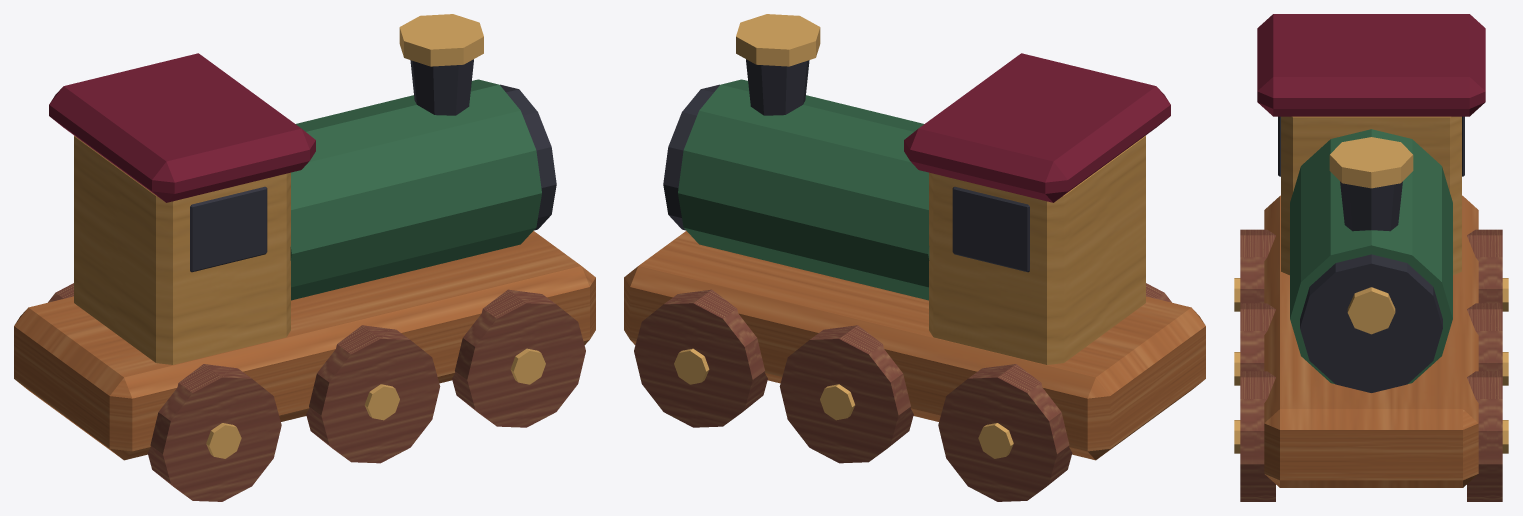
File: toy_train.glb
3 renders of one model, left to right at view 1: azimuth 30°, elevation 25°; view 2: azimuth 150°, elevation 25°; view 3: azimuth 270°, elevation 25°, orthographic. The views are drawn at different scales.
Parts seen in each view (by area): view 1: toy_train; view 2: toy_train; view 3: toy_train.
Part boxes in pixels (box(x1,y1,x2,y2)): toy_train: box(14, 14, 595, 501); toy_train: box(624, 14, 1205, 501); toy_train: box(1234, 14, 1508, 501).
Bounding box in the file's own units: 0.27 × 0.1855 × 0.138.
7 materials, 3 textured.
